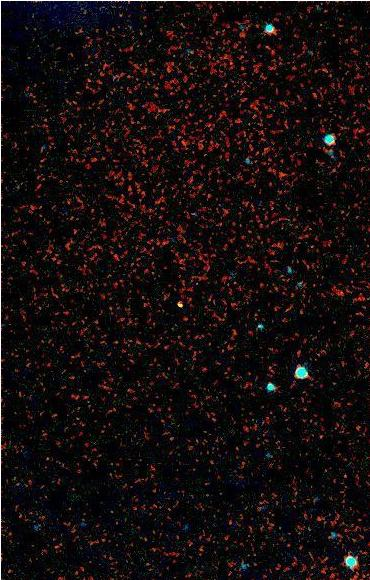star: (166, 290, 196, 320)
